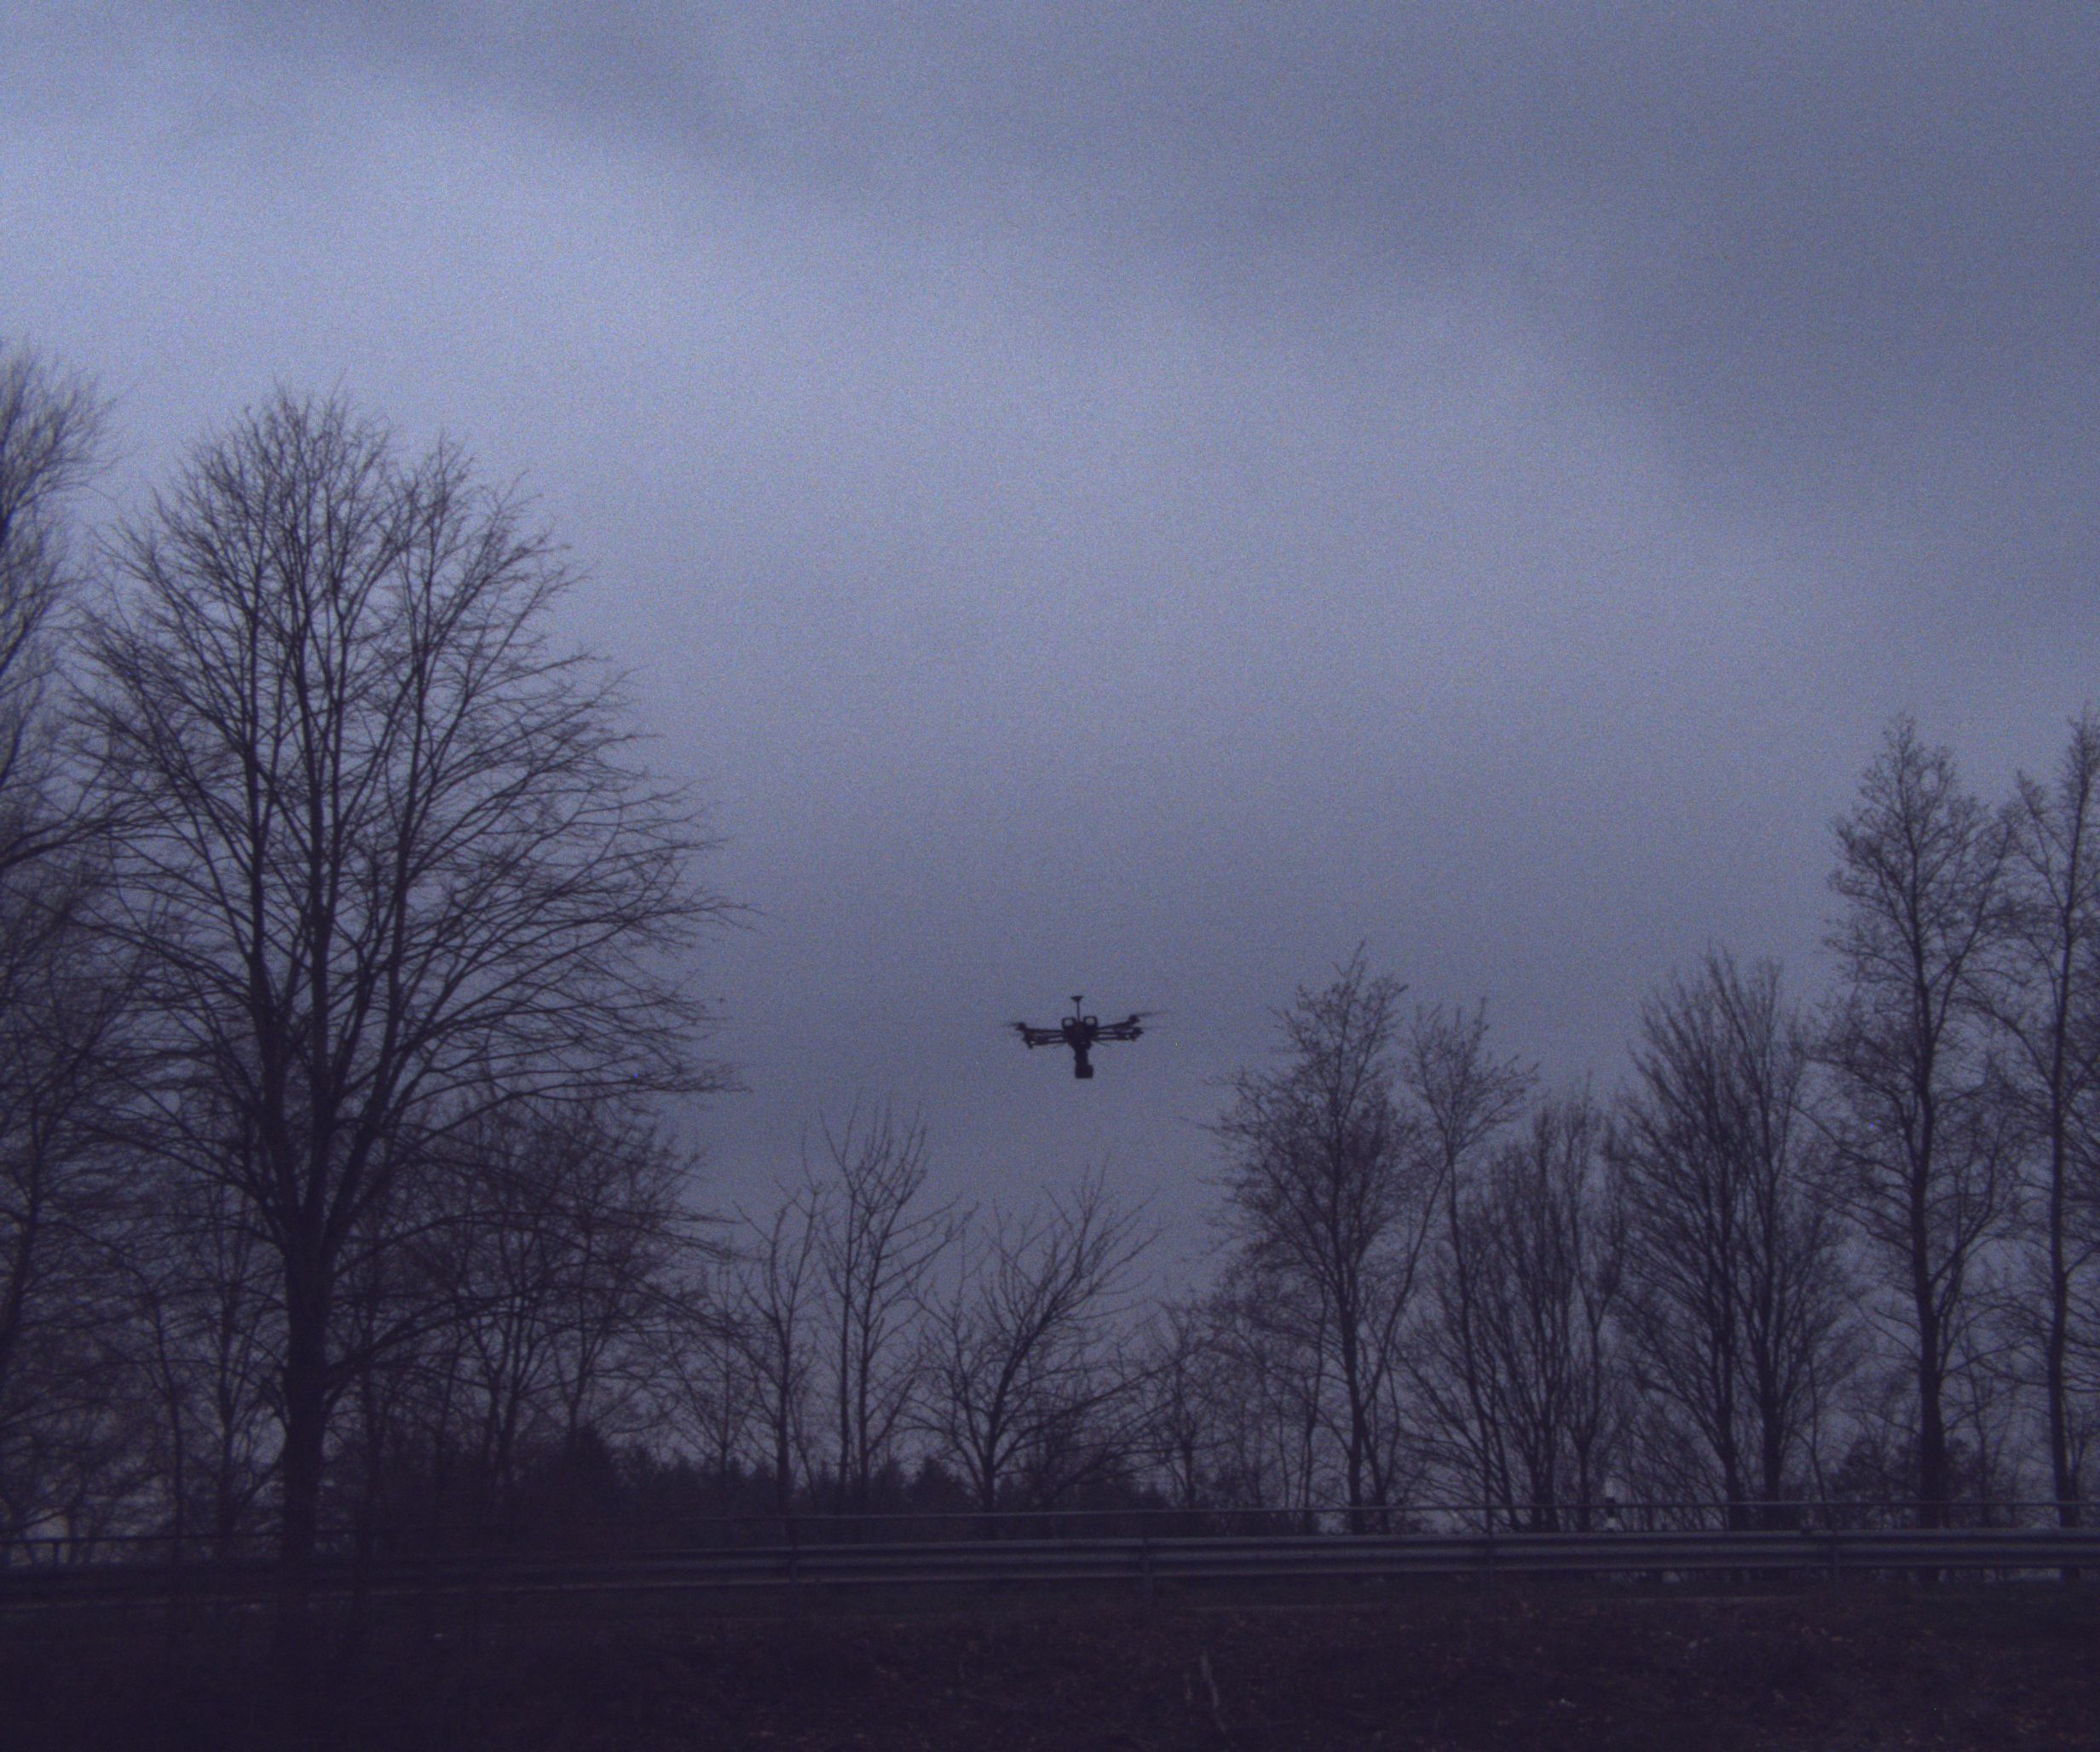Drohne: (961, 980, 1247, 1126)
